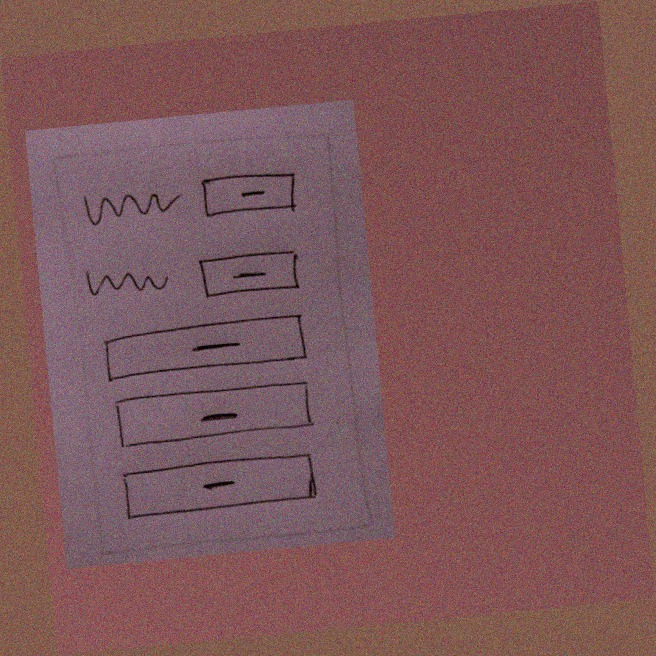button: (95, 308, 315, 385), (110, 377, 318, 451), (114, 449, 322, 523), (194, 161, 310, 233), (192, 235, 308, 307)
text: (77, 246, 188, 304), (78, 178, 189, 235)
